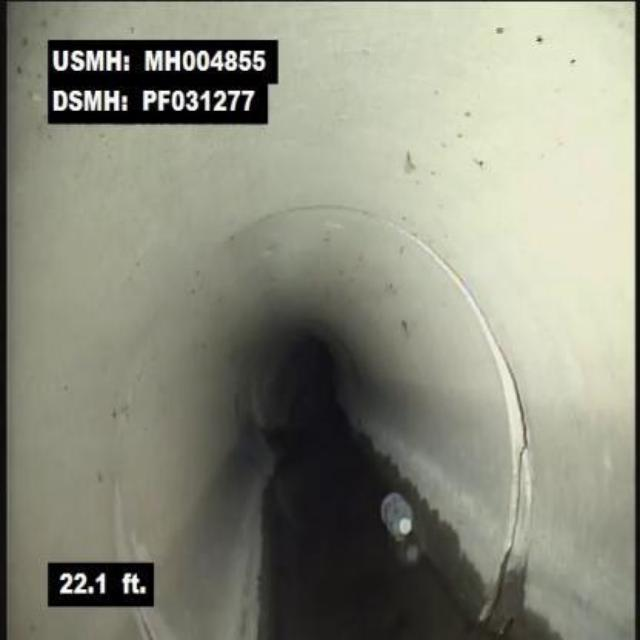Joint offset: (488, 349, 545, 555)
